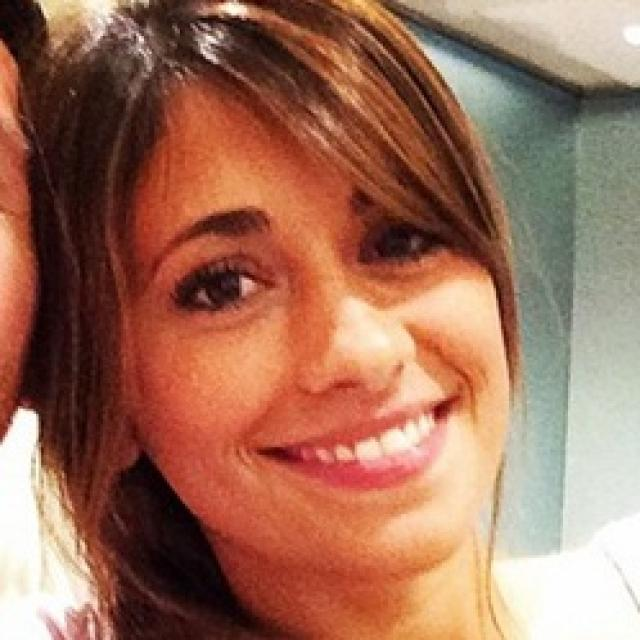Normal: (120, 82, 508, 580)
